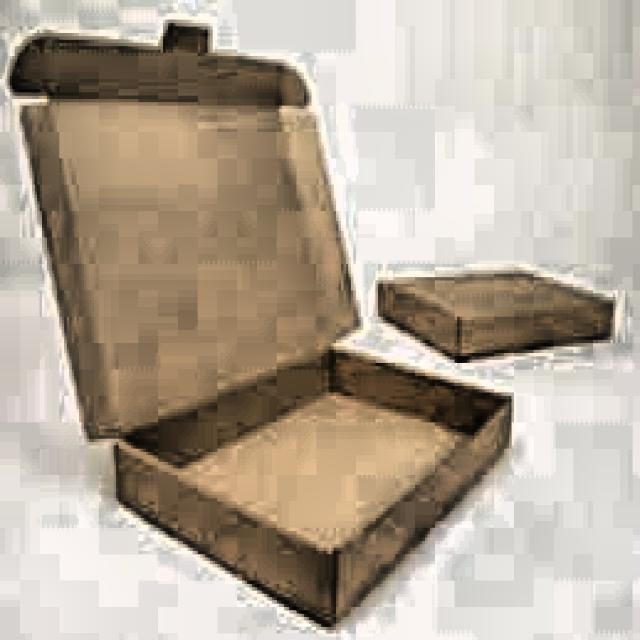cardboard: (376, 264, 616, 363)
